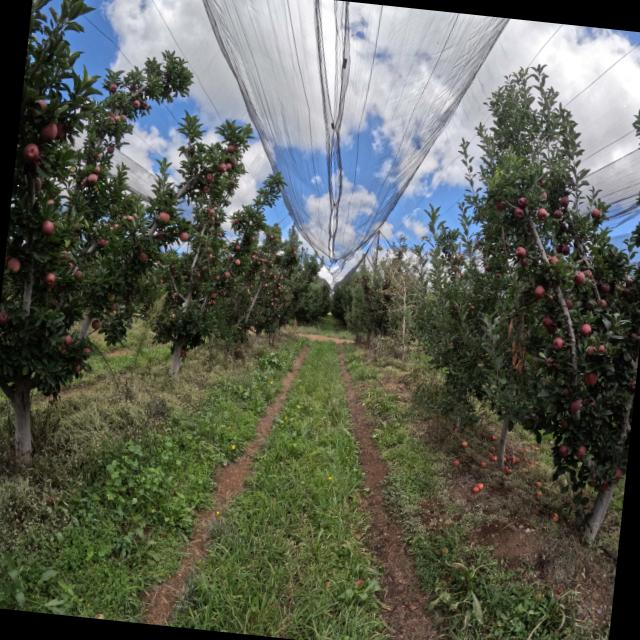-FireBlight-: (498, 309, 527, 374)
